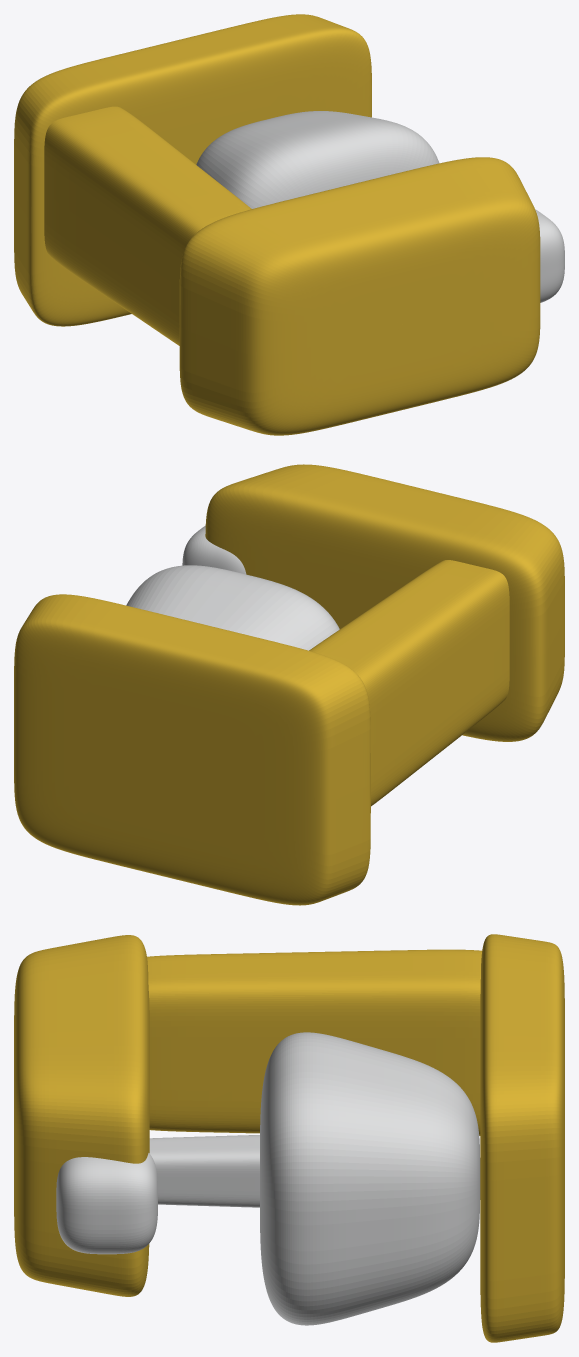
File: kitchen_stand_mixer_sq.glb
The picture shows the model from 3 angles, top to bottom: view 1: azimuth 30°, elevation 25°; view 2: azimuth 150°, elevation 25°; view 3: azimuth 270°, elevation 25°; orthographic projection. The views are drawn at different scales.
Visible parts, largest first — view 1: superquadric_2, superquadric_0, superquadric_1, superquadric_3, superquadric_5; view 2: superquadric_0, superquadric_2, superquadric_1, superquadric_3, superquadric_5; view 3: superquadric_3, superquadric_1, superquadric_2, superquadric_0, superquadric_5, superquadric_4.
Part boxes in pixels (x1,y1,x2,y2): superquadric_2: (179,157,540,435); superquadric_0: (14,14,371,326); superquadric_1: (44,106,251,345); superquadric_3: (196,111,439,208); superquadric_5: (535,209,564,302); superquadric_0: (14,594,370,905); superquadric_2: (205,464,564,741); superquadric_1: (309,560,509,806); superquadric_3: (126,565,339,650); superquadric_5: (182,525,246,574); superquadric_3: (260,1032,480,1325); superquadric_1: (147,949,481,1135); superquadric_2: (14,935,149,1296); superquadric_0: (480,934,564,1342); superquadric_5: (56,1153,157,1254); superquadric_4: (149,1135,259,1207).
Bounding box in the file's own units: 0.8387 × 0.5334 × 1.
